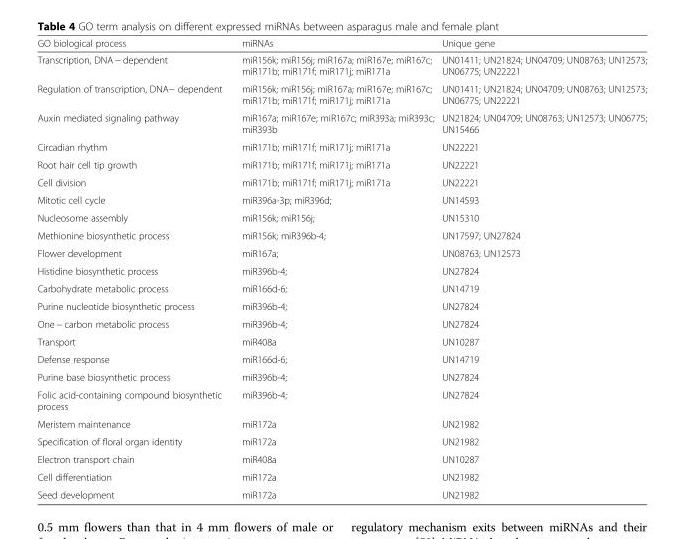table: (36, 37, 646, 499)
table column: (437, 37, 646, 499), (231, 37, 437, 499), (36, 37, 231, 499)
table column header: (36, 37, 646, 50)
table row: (36, 50, 646, 79), (36, 79, 646, 108), (36, 108, 646, 137), (36, 385, 646, 414), (36, 137, 646, 155), (36, 155, 646, 173), (36, 190, 646, 208), (36, 208, 646, 226), (36, 243, 646, 261), (36, 261, 646, 279), (36, 279, 646, 297), (36, 314, 646, 332), (36, 332, 646, 350), (36, 367, 646, 385), (36, 414, 646, 432), (36, 432, 646, 450), (36, 467, 646, 485), (36, 173, 646, 190), (36, 226, 646, 243), (36, 297, 646, 314), (36, 350, 646, 367), (36, 450, 646, 467), (36, 485, 646, 499), (36, 37, 646, 50)
